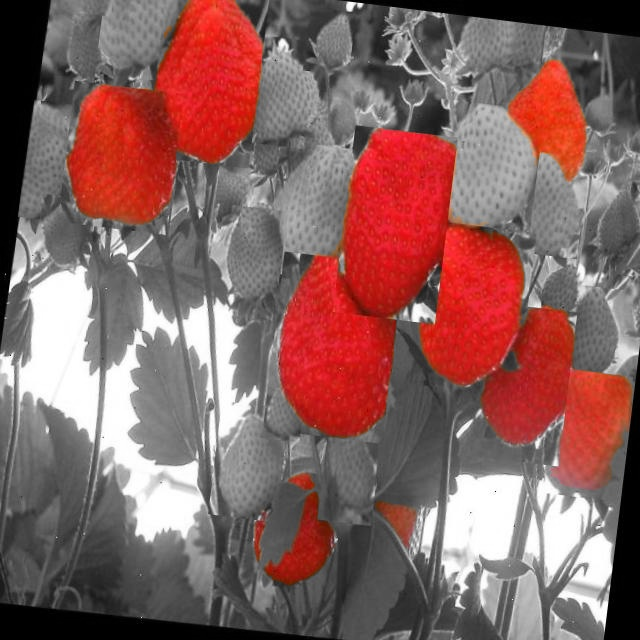ripe: (262, 252, 403, 444), (332, 124, 458, 323), (404, 218, 536, 396), (145, 0, 269, 168), (58, 80, 184, 234), (469, 301, 577, 466), (542, 368, 632, 502)
unripe: (425, 98, 545, 244), (265, 134, 361, 282), (242, 34, 327, 150), (208, 401, 289, 522), (210, 204, 287, 320), (508, 150, 590, 258), (90, 0, 184, 82), (448, 15, 546, 90), (18, 100, 78, 222), (556, 283, 625, 388), (317, 420, 383, 526), (34, 194, 97, 272), (302, 6, 356, 76), (56, 7, 102, 80), (603, 348, 639, 431), (318, 86, 362, 148), (261, 386, 306, 442), (628, 92, 640, 184), (626, 286, 640, 351), (66, 0, 116, 16)
